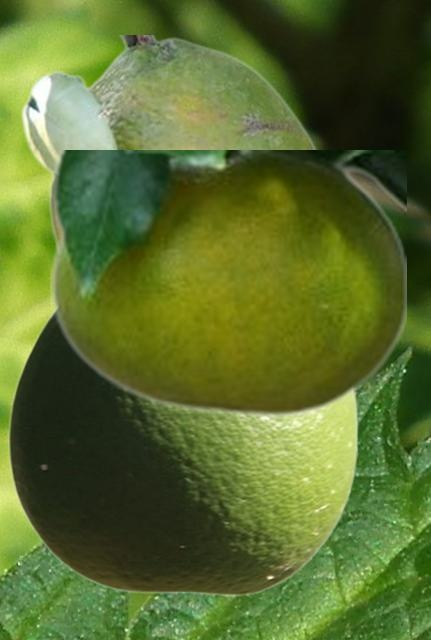dalandan: (7, 311, 358, 595), (50, 150, 405, 417), (19, 35, 317, 251)
